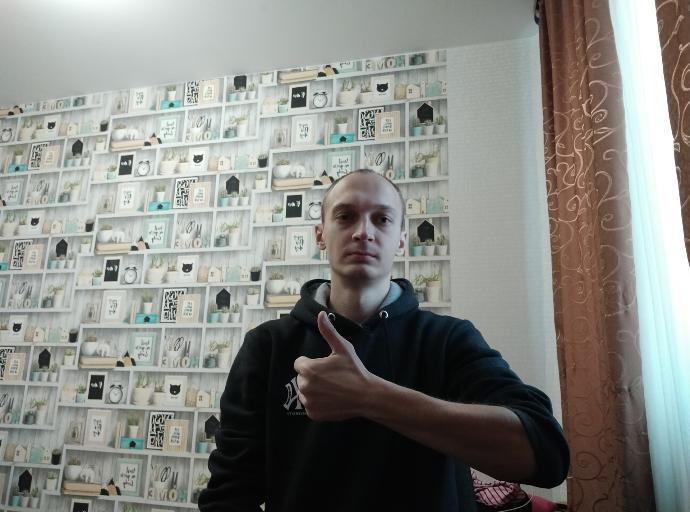like: (291, 307, 375, 428)
